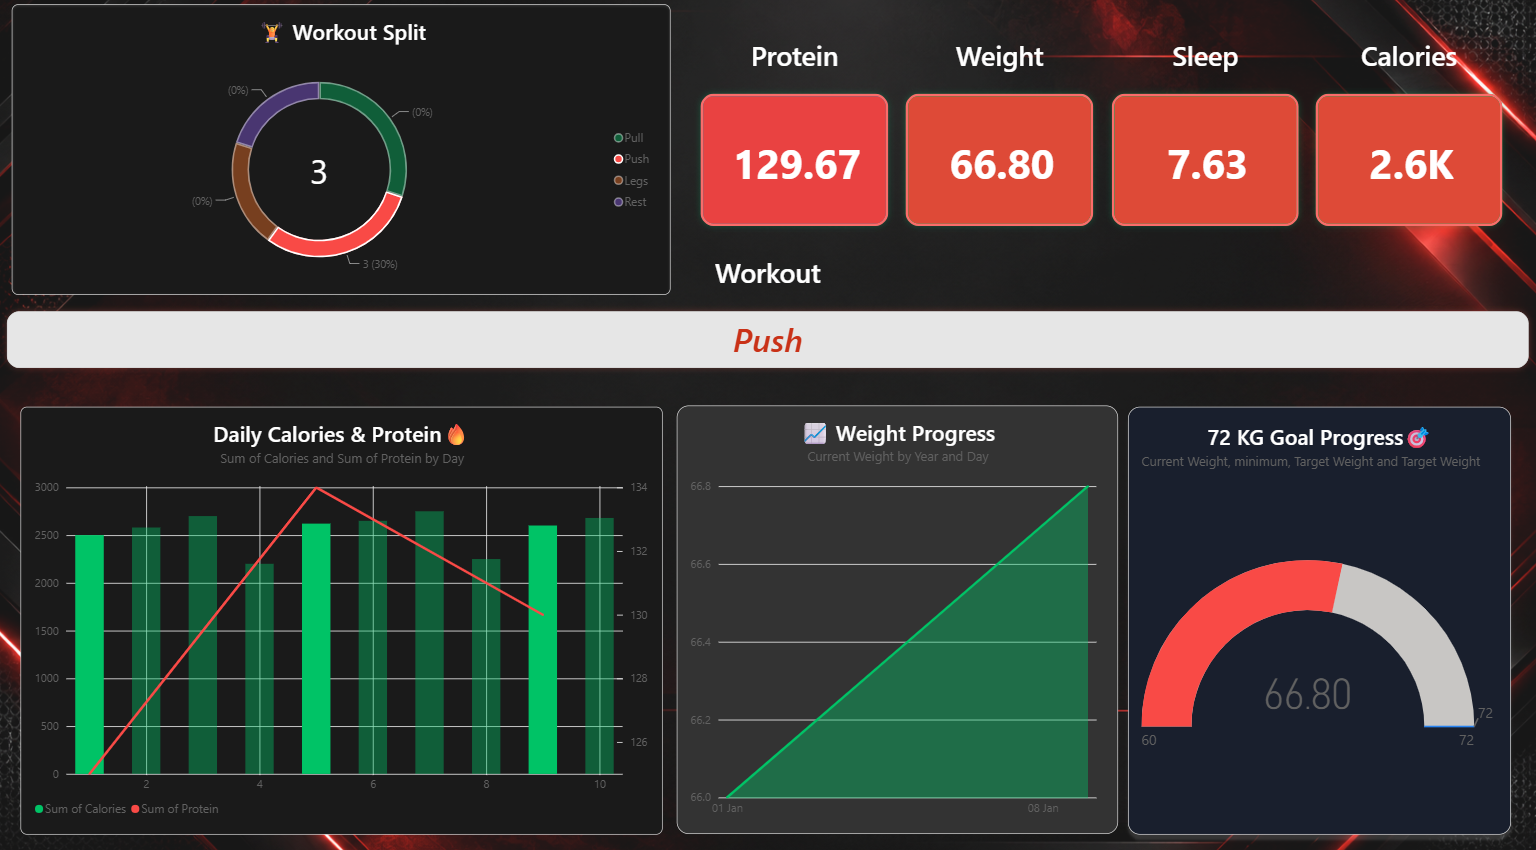

This screenshot's page, from the dashboard's own definition file:
{"tool":"powerbi","page":{"name":"Page 1","canvas":[1920,1080],"ordinal":0},"visuals":[{"type":"cardVisual","title":"Calories","fields":{"Data":["gymdata.Current Calories"]},"box":[1632.6,54.1,255,247.1],"z":0},{"type":"lineChart","title":"📈 Weight Progress","fields":{"Category":["gymdata.Date.Variation.Date Hierarchy.Year","gymdata.Date.Variation.Date Hierarchy.Day"],"Y":["gymdata.Current Weight"]},"box":[846,514,550,534],"z":1000},{"type":"advancedSlicerVisual","fields":{"Values":["gymdata.Workout"]},"box":[0,326.2,1920.4,153.5],"z":2000},{"type":"donutChart","title":"🏋️ Workout Split","fields":{"Category":["gymdata.Workout"],"Y":["CountNonNull(gymdata.Workout)"]},"box":[17.4,14,821.5,362.8],"z":3000},{"type":"cardVisual","title":"Protein","fields":{"Data":["Avg(gymdata.Protein)"]},"box":[865.1,54.1,256.6,247.1],"z":4000},{"type":"cardVisual","title":"Sleep ","fields":{"Data":["Avg(gymdata.SleepHours)"]},"box":[1377.9,54.1,255,247.1],"z":5000},{"type":"cardVisual","title":"Weight","fields":{"Data":["gymdata.Current Weight"]},"box":[1121.5,54.1,256.6,247.1],"z":6000},{"type":"gauge","title":"72 KG Goal Progress🎯","fields":{"MaxValue":["gymdata.Target Weight"],"MinValue":["gymdata.minimum"],"TargetValue":["gymdata.Target Weight"],"Y":["gymdata.Current Weight"]},"box":[1410,516,477.9,533.7],"z":7000},{"type":"lineClusteredColumnComboChart","title":"Daily Calories & Protein🔥","fields":{"Category":["gymdata.Date.Variation.Date Hierarchy.Day"],"Y":["Sum(gymdata.Calories)"],"Y2":["Sum(gymdata.Protein)"]},"box":[28,516,800.6,533.7],"z":8000}]}

Visuals, with their boxes in screenshot pixels (x1, y1, x2, y2), scaled from the page's 1920x1080 canvas onto the 1536x850 screenshot:
"Calories" cardVisual: x1=1306, y1=43, x2=1510, y2=237
"📈 Weight Progress" lineChart: x1=677, y1=405, x2=1117, y2=825
advancedSlicerVisual - gymdata.Workout: x1=0, y1=257, x2=1535, y2=378
"🏋️ Workout Split" donutChart: x1=14, y1=11, x2=671, y2=297
"Protein" cardVisual: x1=692, y1=43, x2=897, y2=237
"Sleep " cardVisual: x1=1102, y1=43, x2=1306, y2=237
"Weight" cardVisual: x1=897, y1=43, x2=1102, y2=237
"72 KG Goal Progress🎯" gauge: x1=1128, y1=406, x2=1510, y2=826
"Daily Calories & Protein🔥" lineClusteredColumnComboChart: x1=22, y1=406, x2=663, y2=826
